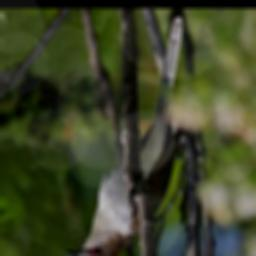Cuckoo: (61, 14, 184, 256)
